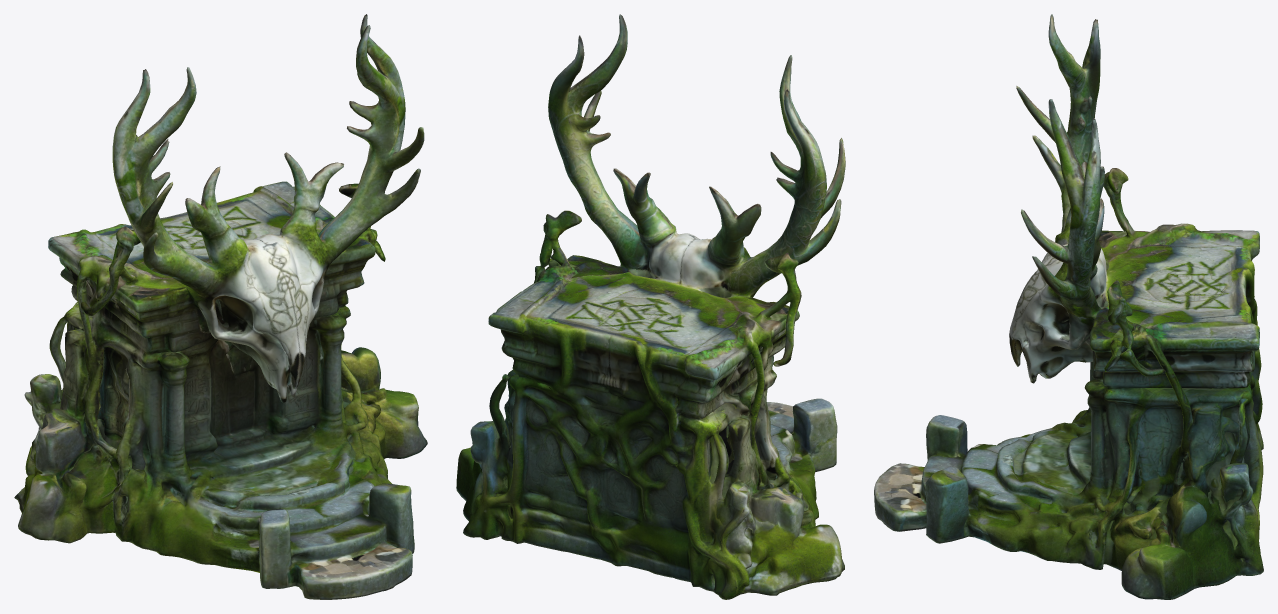
The model's file is Ancient_stone_deer_sk_0102010617_refine.fbx.
3 views of the same model, side by side, from view 1: azimuth 30°, elevation 25°; view 2: azimuth 150°, elevation 25°; view 3: azimuth 270°, elevation 25° (orthographic). The views are drawn at different scales.
Visible parts, largest first — view 1: Mesh_0; view 2: Mesh_0; view 3: Mesh_0.
Boxes of the visible parts, box(x1,y1,x2,y2) form: Mesh_0: box(14, 14, 427, 599); Mesh_0: box(456, 14, 845, 599); Mesh_0: box(874, 14, 1263, 599).
Size of the model in its own units: 174 by 200 by 156.
1 material, 1 textured.
